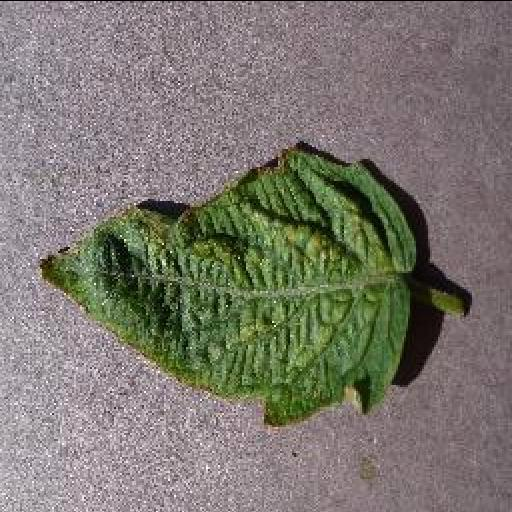disease_tomato: (34, 148, 420, 428)
